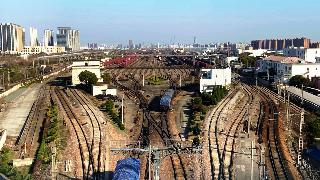train: (159, 89, 175, 111)
